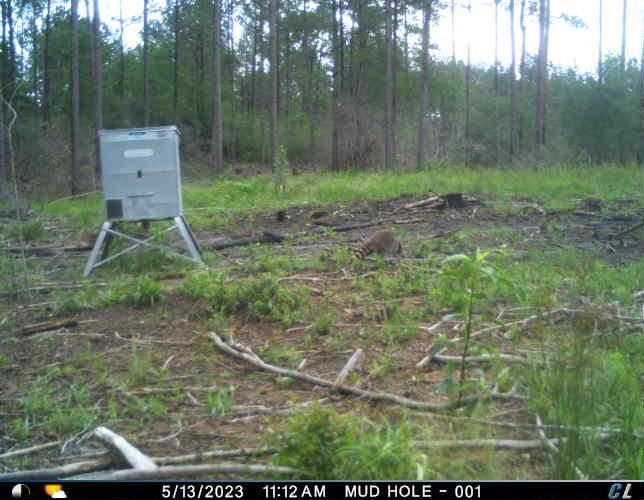Raccoon: (352, 228, 408, 264)
